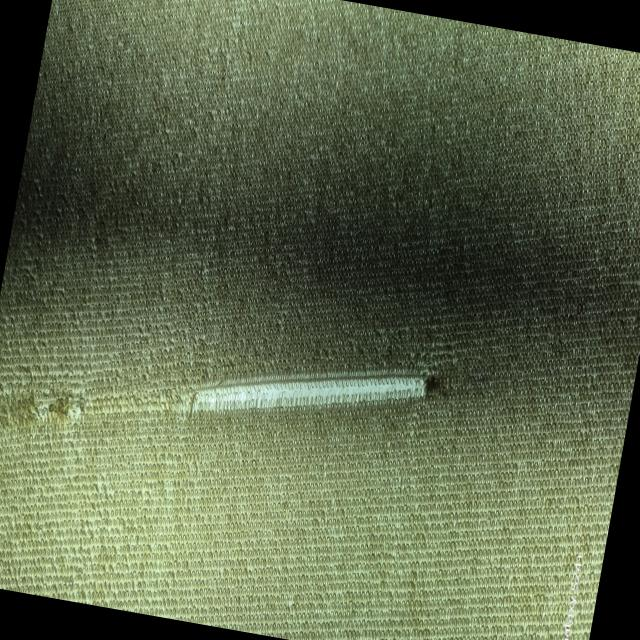Warp_Weft: (13, 297, 454, 497)
